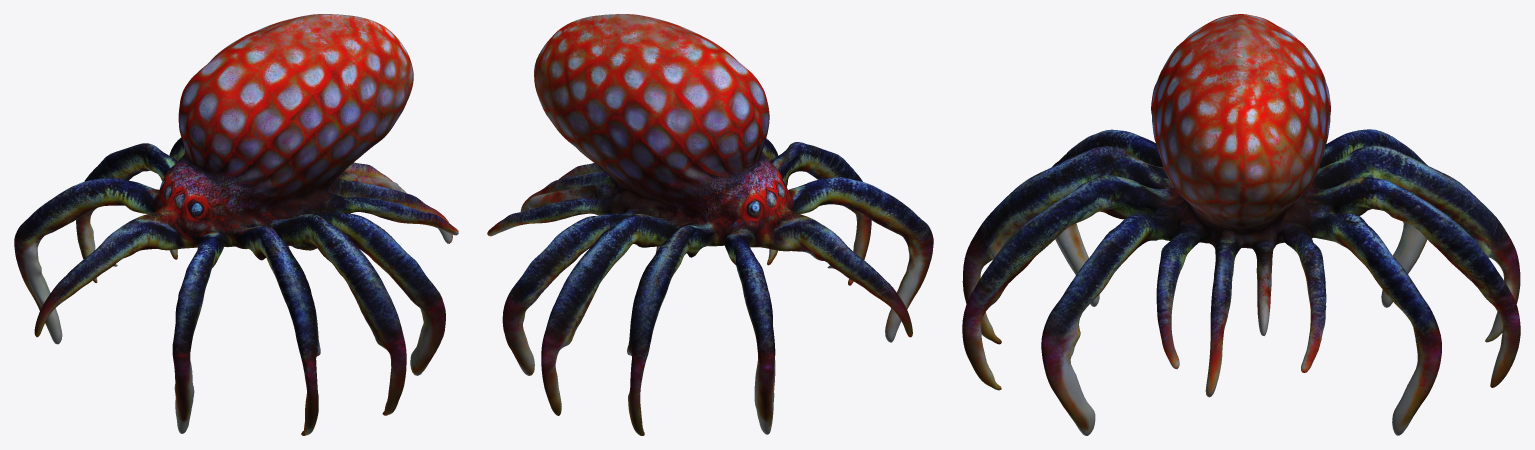
Rendered from spider.fbx.
3 views of the same model, side by side, from view 1: azimuth 30°, elevation 25°; view 2: azimuth 150°, elevation 25°; view 3: azimuth 270°, elevation 25° (orthographic). The views are drawn at different scales.
Parts seen in each view (by area): view 1: model; view 2: model; view 3: model.
Boxes of the visible parts, box(x1,y1,x2,y2) form: model: box(14, 14, 458, 435); model: box(487, 14, 933, 435); model: box(962, 14, 1520, 435).
Bounding box in the file's own units: 165 × 127 × 167.
Materials: 1 (1 with a texture image).
